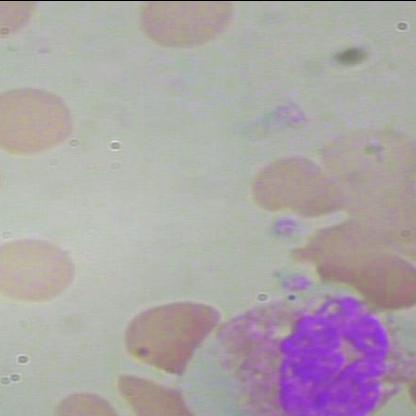Platelets: (278, 268, 315, 291), (268, 216, 300, 238)
RBC: (239, 146, 347, 229), (119, 294, 226, 377), (129, 0, 238, 72), (0, 232, 78, 309), (1, 81, 79, 158)
WBC: (213, 286, 411, 415)
